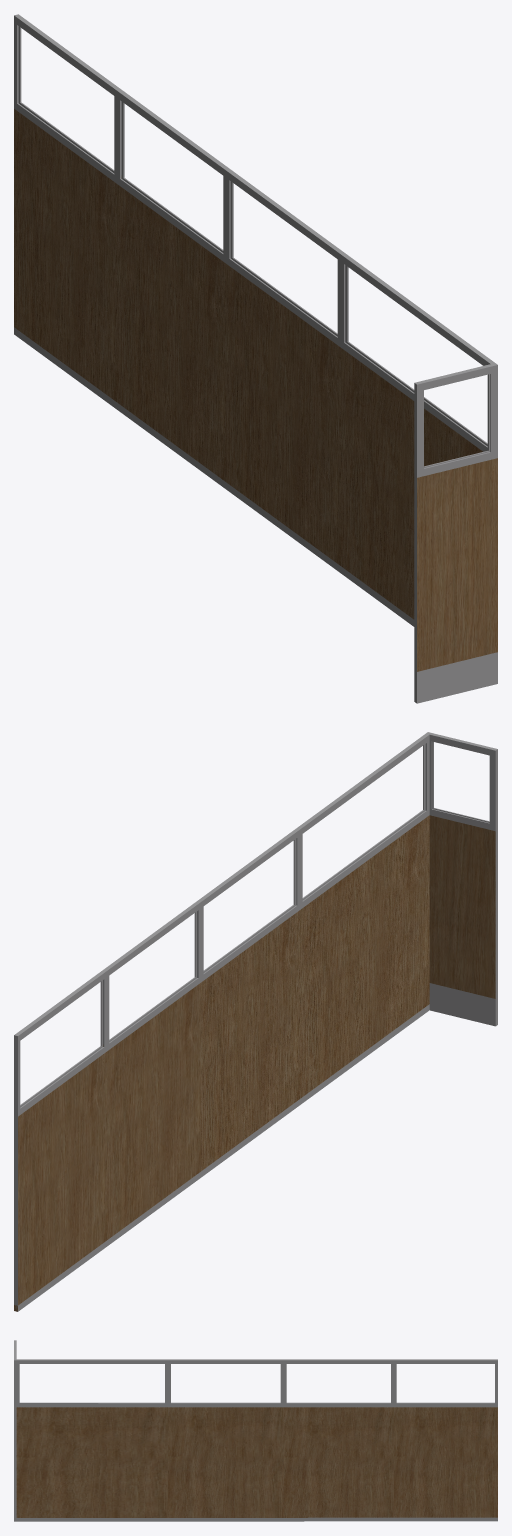
The model's file is cubiculo_3.glb.
3 views of the same model, one above another, from view 1: azimuth 30°, elevation 25°; view 2: azimuth 150°, elevation 25°; view 3: azimuth 270°, elevation 25° (orthographic). The views are drawn at different scales.
Parts seen in each view (by area): view 1: cubiculo 3_export; view 2: cubiculo 3_export; view 3: cubiculo 3_export.
Boxes of the visible parts, <box> form: cubiculo 3_export: <box>14,14,497,703</box>; cubiculo 3_export: <box>14,732,497,1311</box>; cubiculo 3_export: <box>14,1340,497,1521</box>.
Size of the model in its own units: 2.39 by 9 by 24.5.
Materials: 2 (1 with a texture image).
